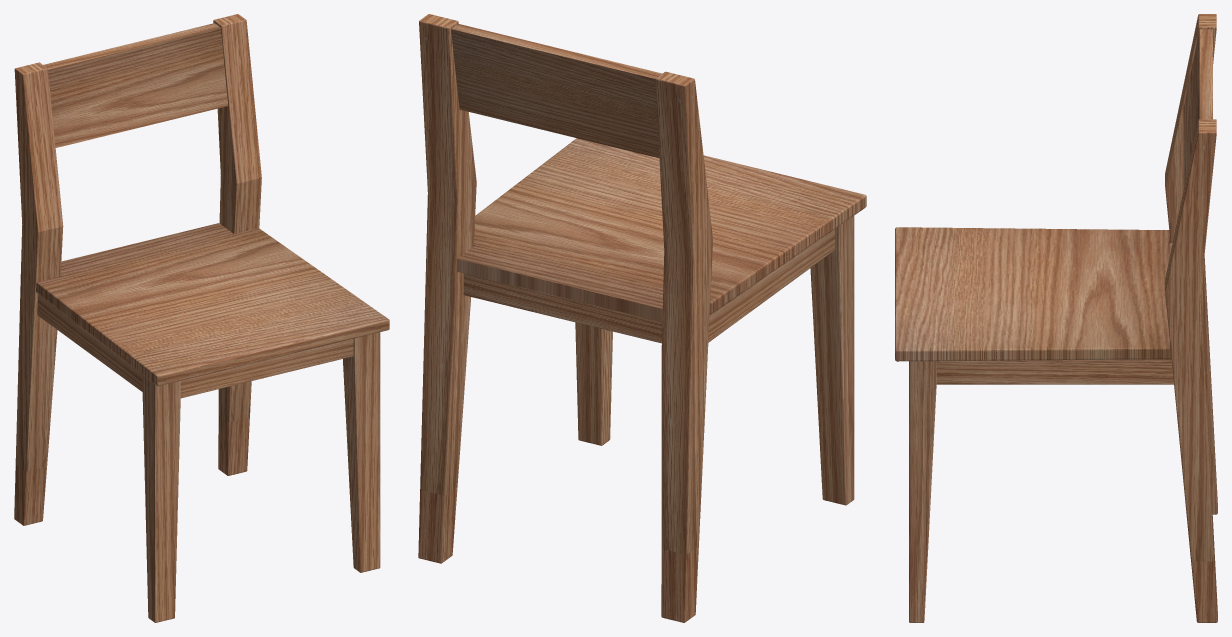
File: yizi5.DAE
3 views of the same model, side by side, from view 1: azimuth 30°, elevation 25°; view 2: azimuth 150°, elevation 25°; view 3: azimuth 270°, elevation 25° (orthographic). The views are drawn at different scales.
Parts seen in each view (by area): view 1: Rectangle010; view 2: Rectangle010; view 3: Rectangle010.
Part boxes in pixels (<box>): Rectangle010: <box>14,14,389,622</box>; Rectangle010: <box>418,14,866,622</box>; Rectangle010: <box>895,14,1217,622</box>.
Bounding box in the file's own units: 434 × 803 × 479.
1 material, 1 textured.
